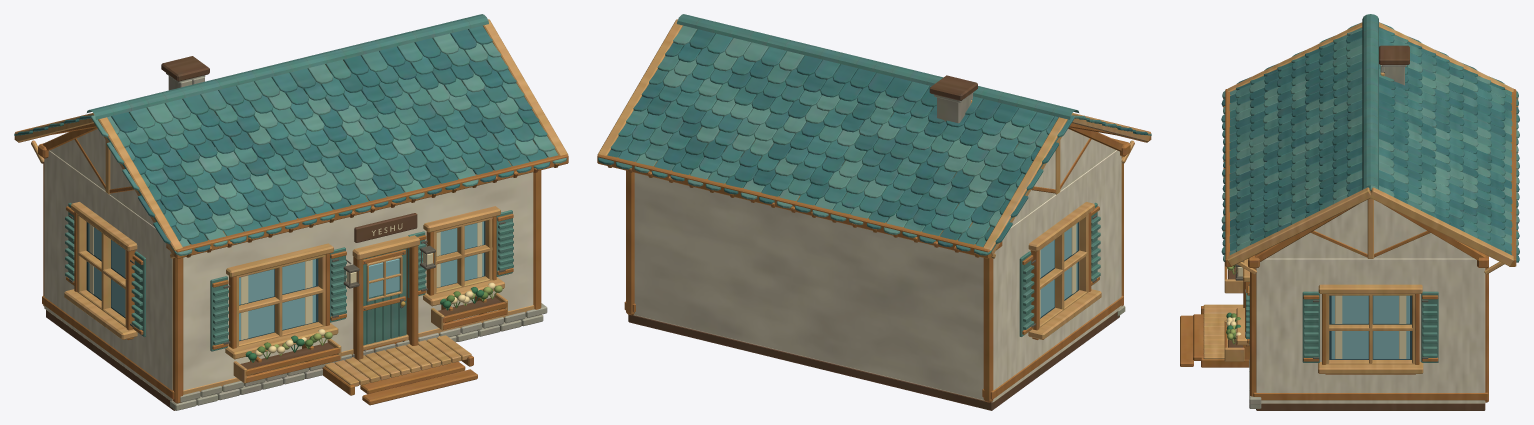
The model's file is cottage.glb.
The picture shows the model from 3 angles, left to right: view 1: azimuth 30°, elevation 25°; view 2: azimuth 150°, elevation 25°; view 3: azimuth 270°, elevation 25°; orthographic projection. The views are drawn at different scales.
Visible parts, largest first — view 1: Cottage_Exterior_Study, Detail_Sea glass, Detail_Linen behind glass, Detail_Oxidized bronze hardware; view 2: Cottage_Exterior_Study, Detail_Sea glass; view 3: Cottage_Exterior_Study, Detail_Sea glass, Detail_Linen behind glass.
Part boxes in pixels (x1,y1,x2,y2): Cottage_Exterior_Study: [14, 14, 568, 410]; Detail_Sea glass: [88, 221, 483, 340]; Detail_Linen behind glass: [89, 222, 482, 340]; Detail_Oxidized bronze hardware: [69, 215, 505, 351]; Cottage_Exterior_Study: [597, 14, 1151, 410]; Detail_Sea glass: [1040, 223, 1077, 316]; Cottage_Exterior_Study: [1180, 14, 1519, 410]; Detail_Sea glass: [1331, 295, 1409, 359]; Detail_Linen behind glass: [1237, 267, 1406, 358].
Size of the model in its own units: 10.97 by 7.04 by 9.05.
Materials: 2 (2 with a texture image).
